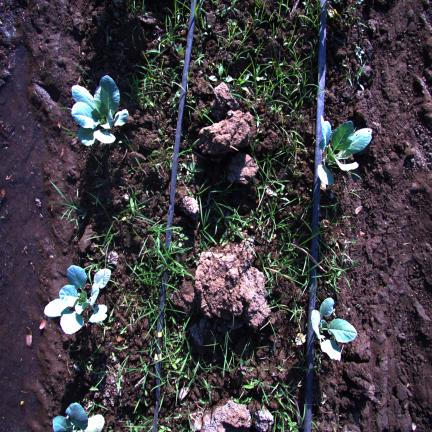crop: (44, 265, 111, 334), (71, 76, 128, 146), (317, 116, 372, 185), (311, 298, 357, 360), (53, 403, 105, 432)
